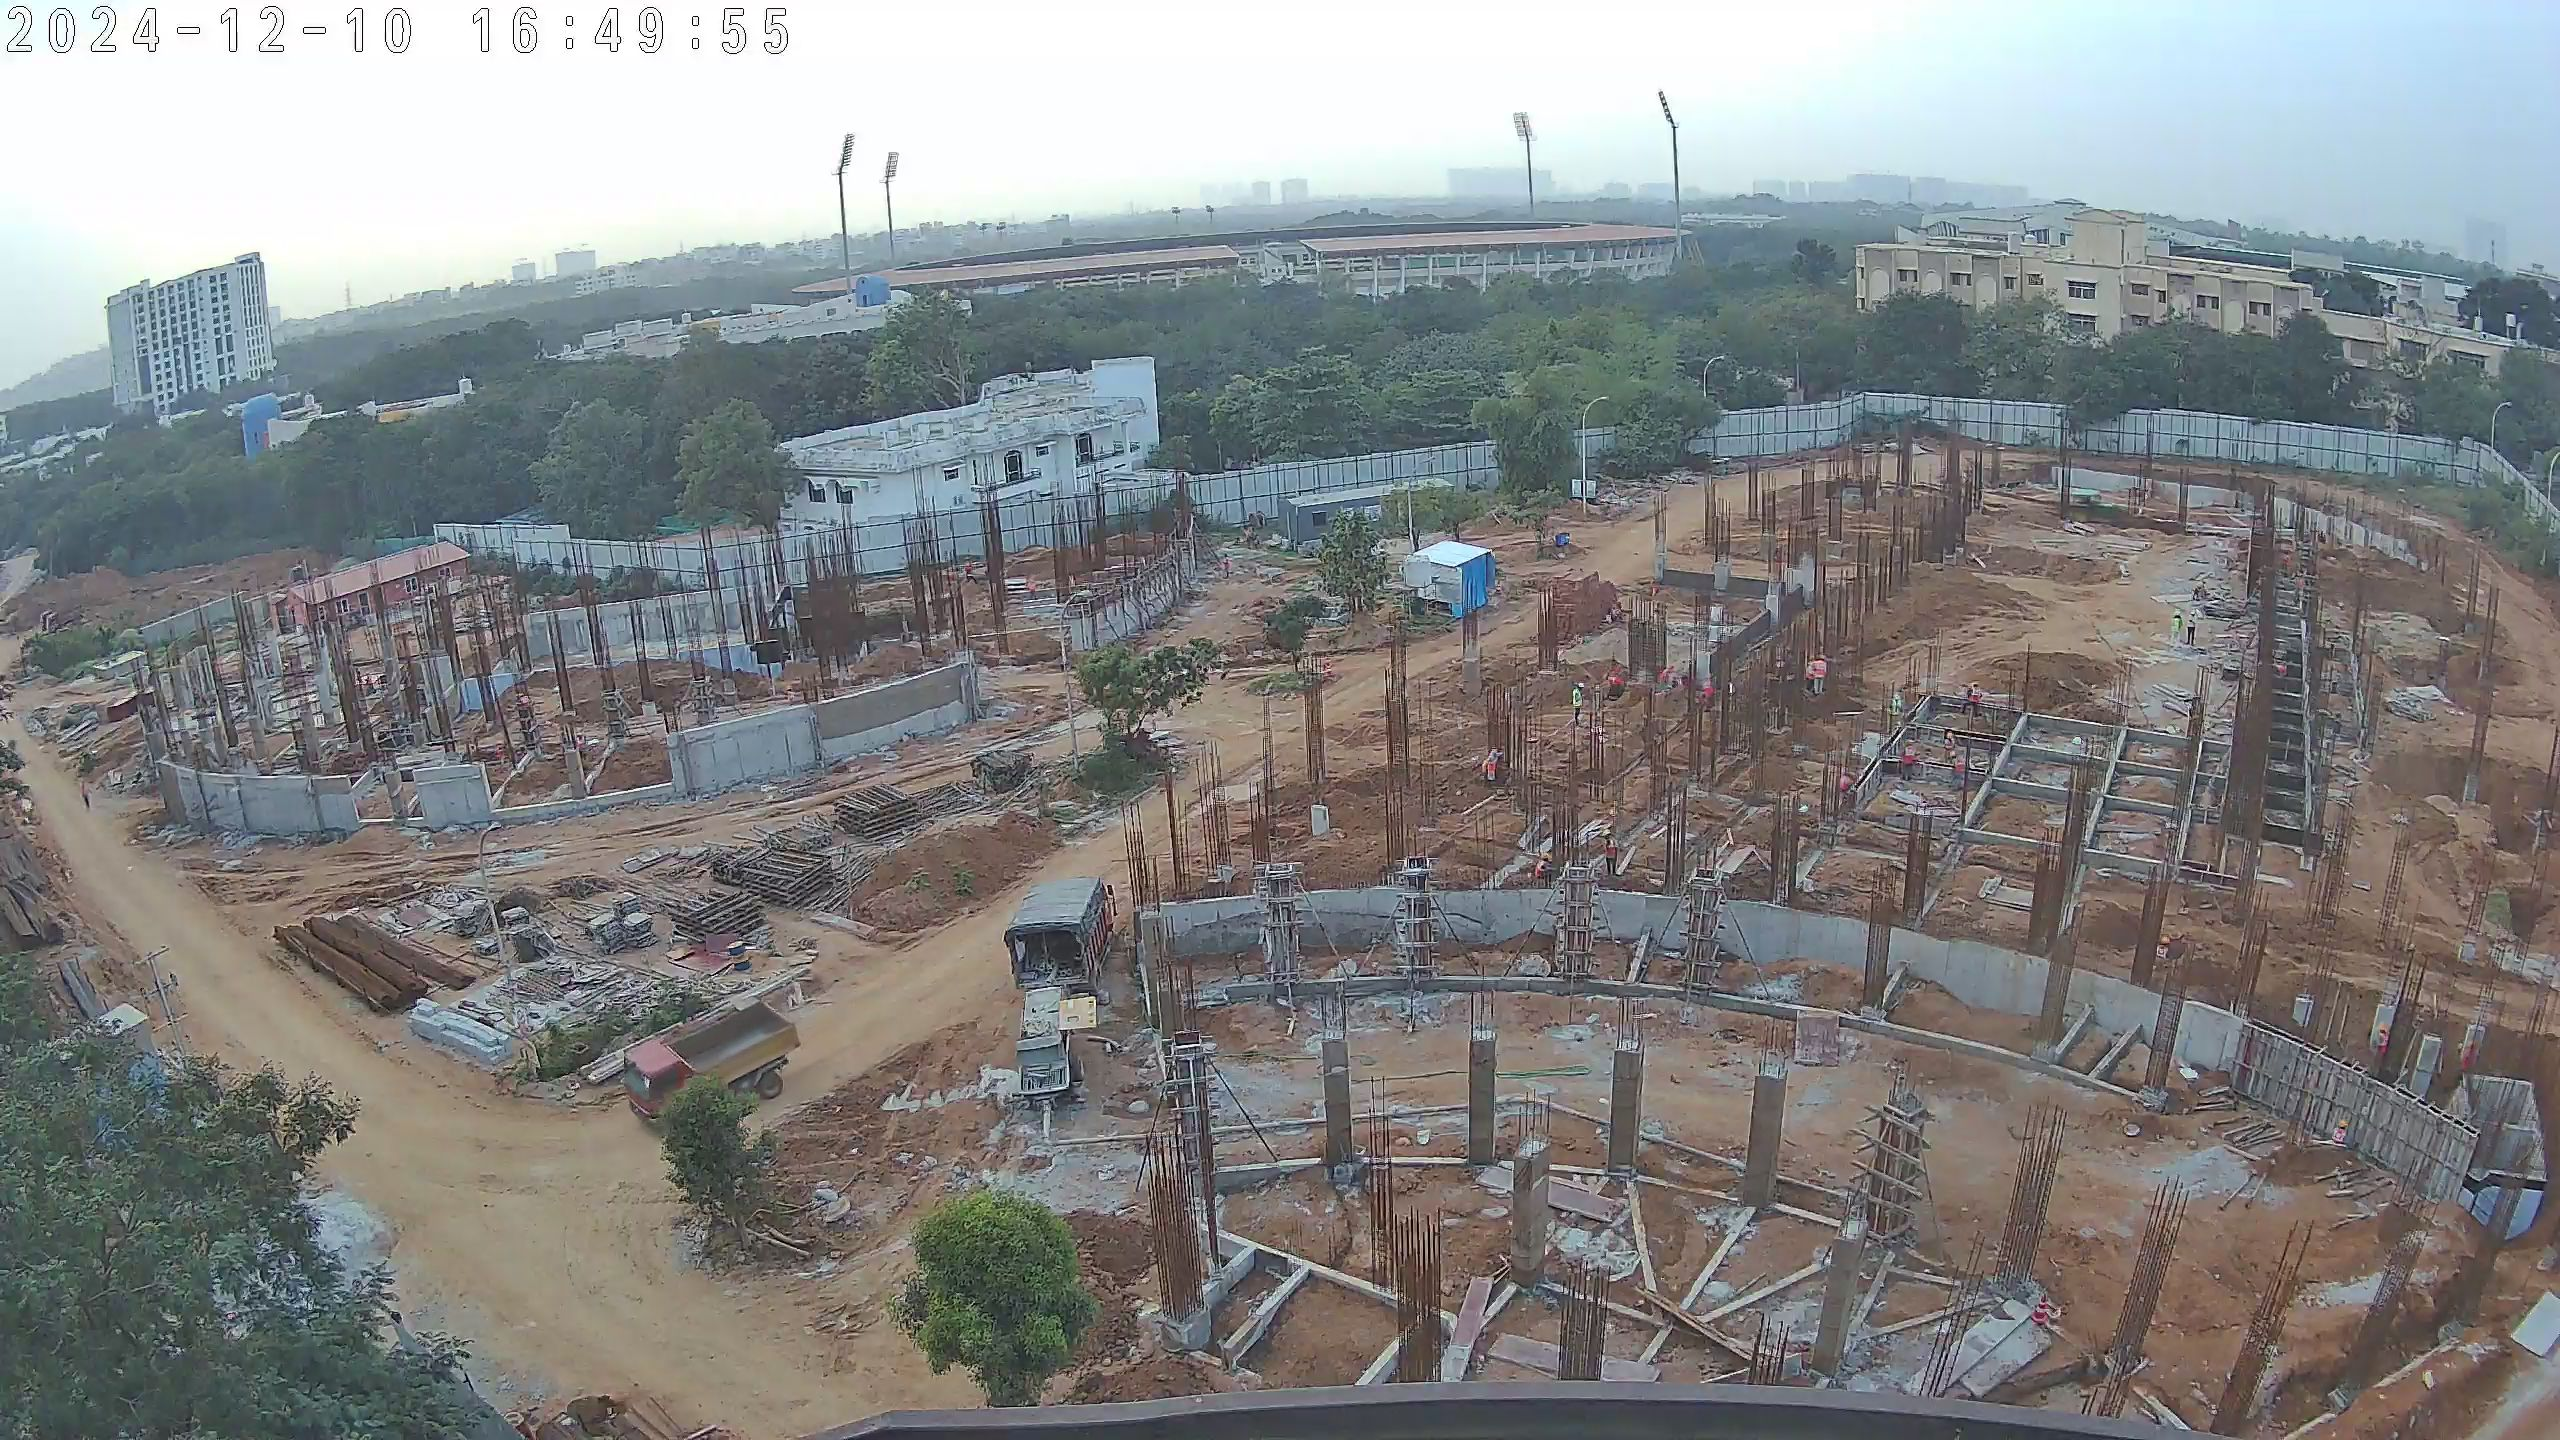bulldozer: (2052, 484, 2164, 540)
truck: (1002, 877, 1116, 1106), (624, 997, 804, 1125)
worker: (1957, 675, 1987, 719), (1599, 824, 1622, 880), (1800, 656, 1827, 699), (1833, 769, 1867, 803), (2373, 1020, 2395, 1072), (1478, 739, 1500, 788), (2456, 1034, 2481, 1077), (1568, 676, 1586, 734), (1529, 851, 1556, 888), (514, 690, 541, 726), (1897, 741, 1921, 781), (1696, 677, 1719, 717), (1939, 728, 1961, 767), (2327, 1115, 2348, 1154), (76, 777, 99, 812), (2168, 607, 2186, 651), (959, 559, 983, 591), (2185, 607, 2204, 647), (573, 732, 598, 759), (490, 739, 511, 770), (2290, 570, 2307, 605), (1218, 552, 1235, 583), (1023, 578, 1042, 604), (2190, 578, 2210, 602), (2278, 546, 2293, 576)
